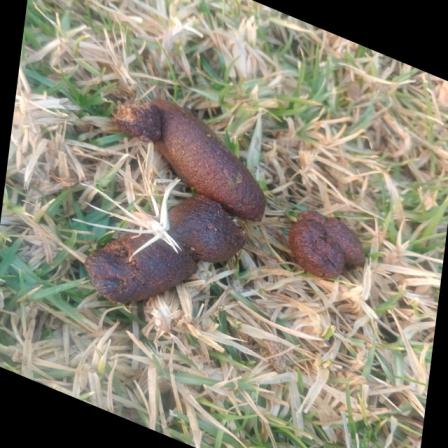dog-poop: (95, 83, 263, 308), (283, 204, 371, 288)
